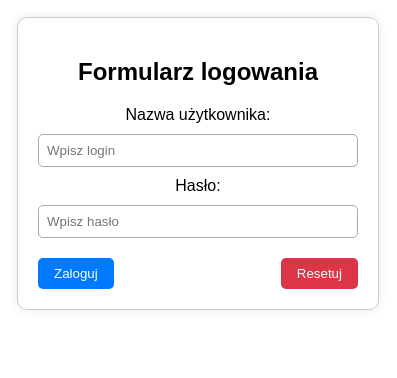
Test: Test formularza logowania › Powinien wyświetlić błąd przy niepoprawnych danych
In the field with id "username": [198, 151] box left=38, top=134, right=358, bottom=167, type "user"
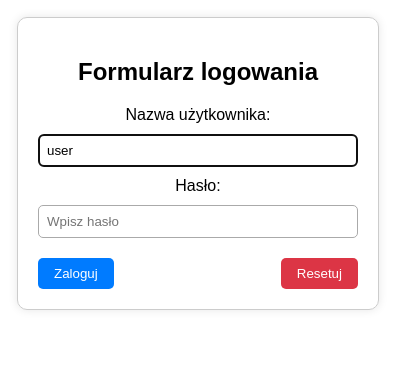
In the password field labelled "Hasło:": [198, 222] box left=38, top=205, right=358, bottom=238, type "wrongpass"
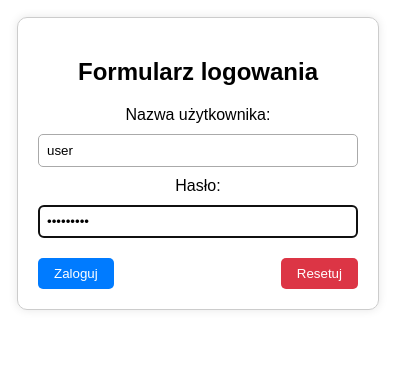
Click the button with id "login-button": [76, 274] box left=38, top=258, right=114, bottom=289
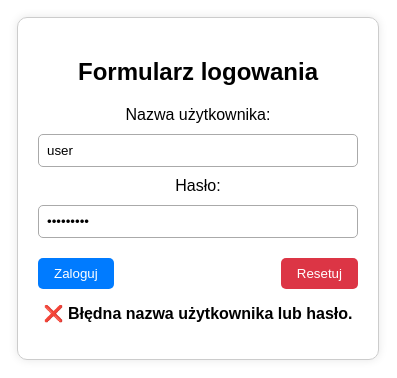
Expected: the text with id "message" shows "Błędna nazwa użytkownika lub hasło.", left=44, top=305, right=353, bottom=322
